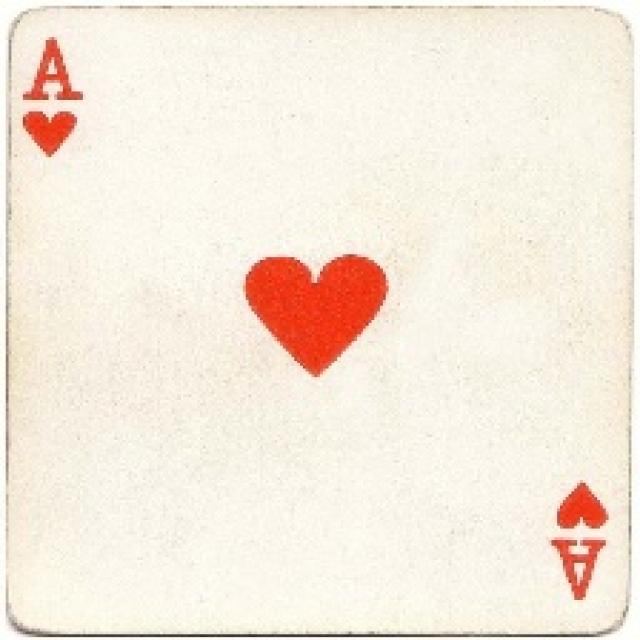Heart: (242, 254, 391, 378), (555, 480, 609, 530), (24, 110, 77, 157)
